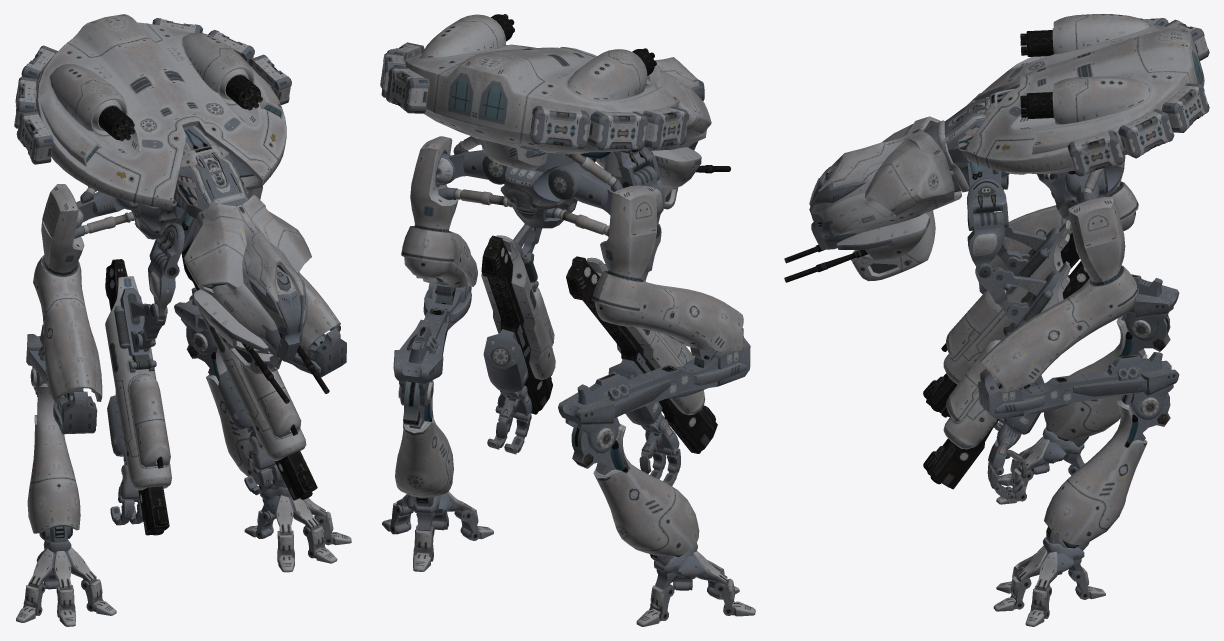
Rendered from SciFI Mech.fbx.
The picture shows the model from 3 angles, left to right: view 1: azimuth 30°, elevation 25°; view 2: azimuth 150°, elevation 25°; view 3: azimuth 270°, elevation 25°; orthographic projection. The views are drawn at different scales.
Visible parts, largest first — view 1: mesh0 (×27); view 2: mesh0 (×27); view 3: mesh0 (×24).
Part boxes in pixels (x1,y1,x2,y2): mesh0 (×27): [14, 14, 346, 590]; mesh0 (×27): [380, 14, 750, 620]; mesh0 (×24): [784, 14, 1209, 591].
Size of the model in its own units: 1.18 by 1.72 by 1.3.
